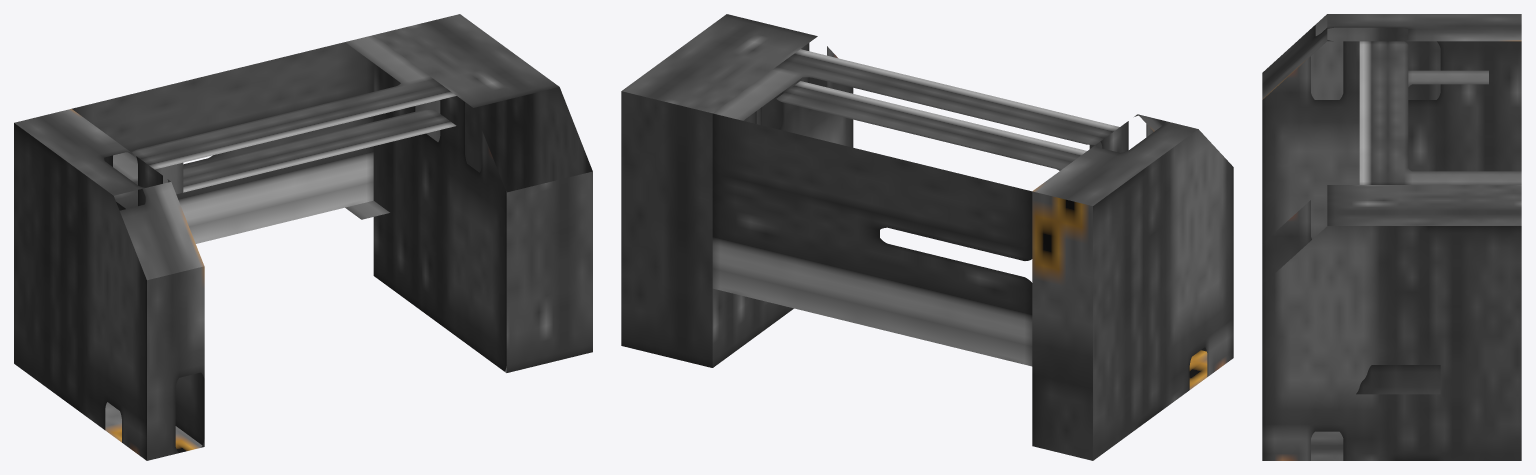
Rendered from fleshing_machine.obj.
3 renders of one model, left to right at view 1: azimuth 30°, elevation 25°; view 2: azimuth 150°, elevation 25°; view 3: azimuth 270°, elevation 25°, orthographic. The views are drawn at different scales.
Visible parts, largest first — view 1: base; view 2: base; view 3: base.
Part boxes in pixels (x1=…): base: x1=14, y1=14, x2=592, y2=460; base: x1=621, y1=14, x2=1233, y2=460; base: x1=1262, y1=14, x2=1521, y2=460.
Size of the model in its own units: 2 by 1 by 1.
